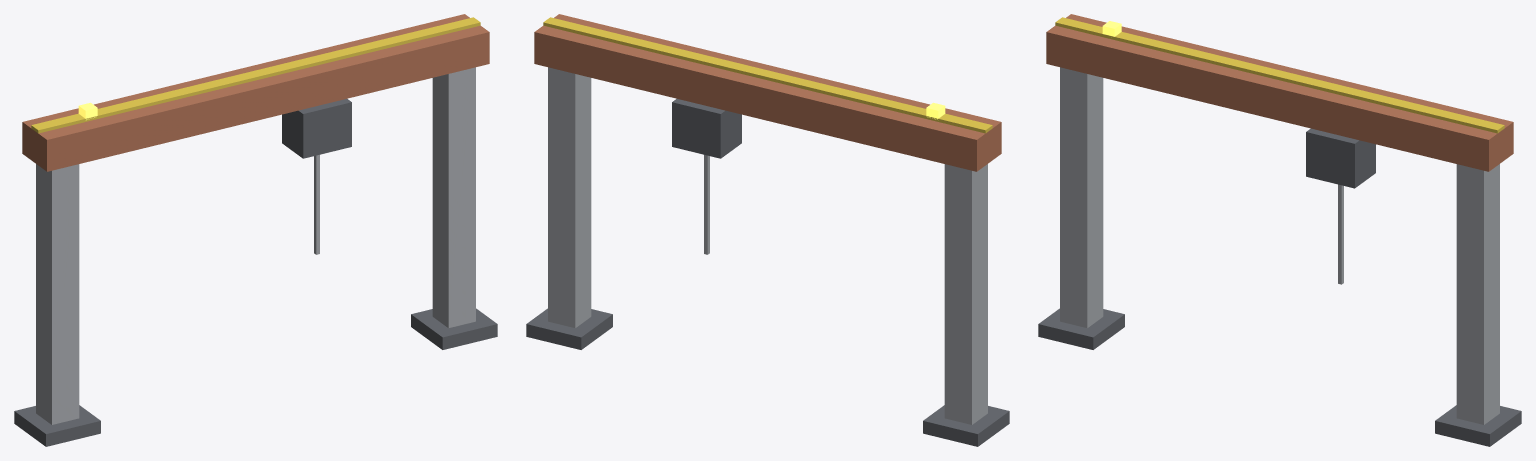
The model's file is Gantry.glb.
The picture shows the model from 3 angles, left to right: view 1: azimuth 30°, elevation 25°; view 2: azimuth 150°, elevation 25°; view 3: azimuth 330°, elevation 25°; orthographic projection.
Parts seen in each view (by area): view 1: Gantry; view 2: Gantry; view 3: Gantry.
Part boxes in pixels (x1,y1,x2,y2): Gantry: (14,14,497,446); Gantry: (526,14,1009,446); Gantry: (1038,14,1521,446).
Size of the model in its own units: 14.8 by 9.85 by 1.8.
